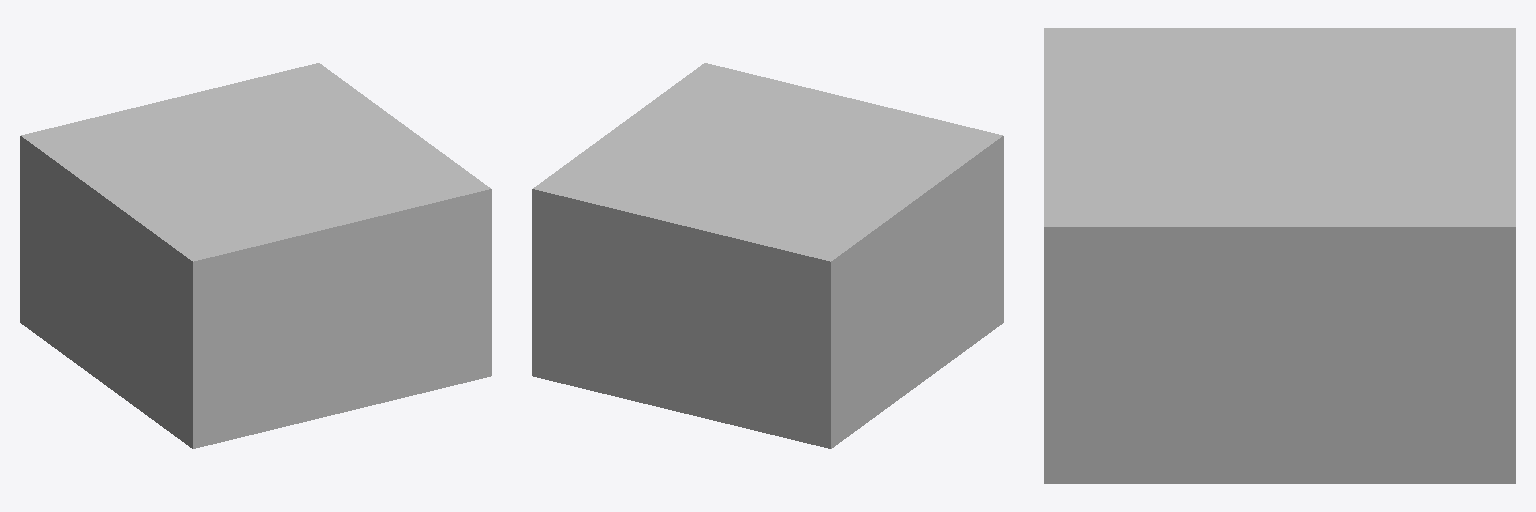
The robot description file, URDF, robot "cover":
<!-- <?xml version="1.0"?>
 <robot name="cover">
  <link name="base_link">
    <visual>
     <geometry>
      <cylinder length="0.02" radius="0.03"/>
     </geometry>
     <material name="blue">
      <color rgba="0 0 .8 1"/>
     </material>
    </visual>
    <collision>
     <geometry>
      <cylinder length="0.02" radius="0.03"/>
     </geometry>
    </collision>
    <inertial>
      <mass value="5"/>
      <inertia ixx="0.2" ixy="0.0" ixz="0.0" iyy="0.2" iyz="0.0" izz="0.1"/>
    </inertial>
  </link>
 </robot> -->


 <robot name="cover">
  <link name="base_link">
    <inertial>
      <mass value="1" />
      <inertia ixx="0.2" ixy="0.0" ixz="0.0" iyy="0.2" iyz="0.0" izz="0.1"/>
    </inertial>
    <visual>
      <geometry>
        <box size="0.05 0.05 0.03" />
      </geometry>
     <material name="red">
      <color rgba=".8 .8 .8 1"/>
     </material>
    </visual>
    <collision>
      <geometry>
        <box size="0.05 0.05 0.03" />
      </geometry>
    </collision>
  </link>
</robot>

--- Render facts (derived) ---
The picture shows the robot from 3 angles, left to right: view 1: azimuth 30°, elevation 25°; view 2: azimuth 150°, elevation 25°; view 3: azimuth 270°, elevation 25°; orthographic projection.
Robot: cover — 1 links, 0 joints (none); root link base_link; default pose: all joints at 0.
Links seen in each view (by area): view 1: base_link; view 2: base_link; view 3: base_link.
Boxes of the visible links, box(x1,y1,x2,y2) form: base_link: box(20, 63, 491, 448); base_link: box(532, 63, 1003, 448); base_link: box(1044, 28, 1515, 483).
Bounding box of the posed robot: 0.05 × 0.05 × 0.03 m (x, y, z).
Geometry: primitives only (box / cylinder / sphere), no mesh files.